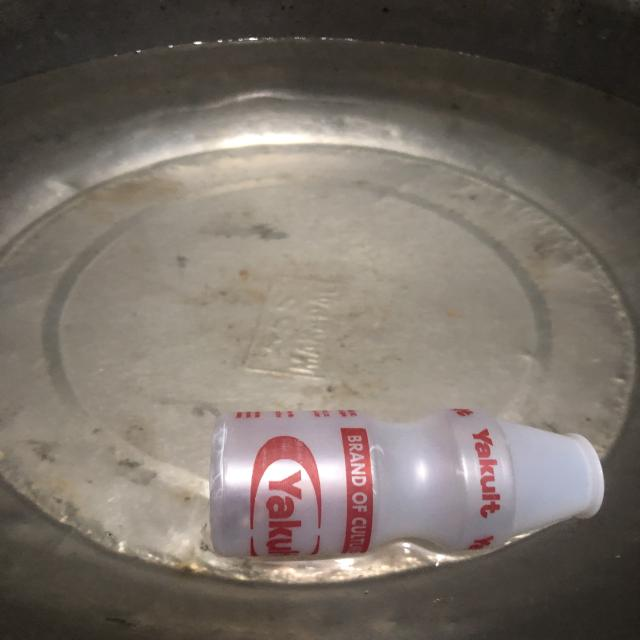Plastic Bottle: (161, 368, 618, 598)
